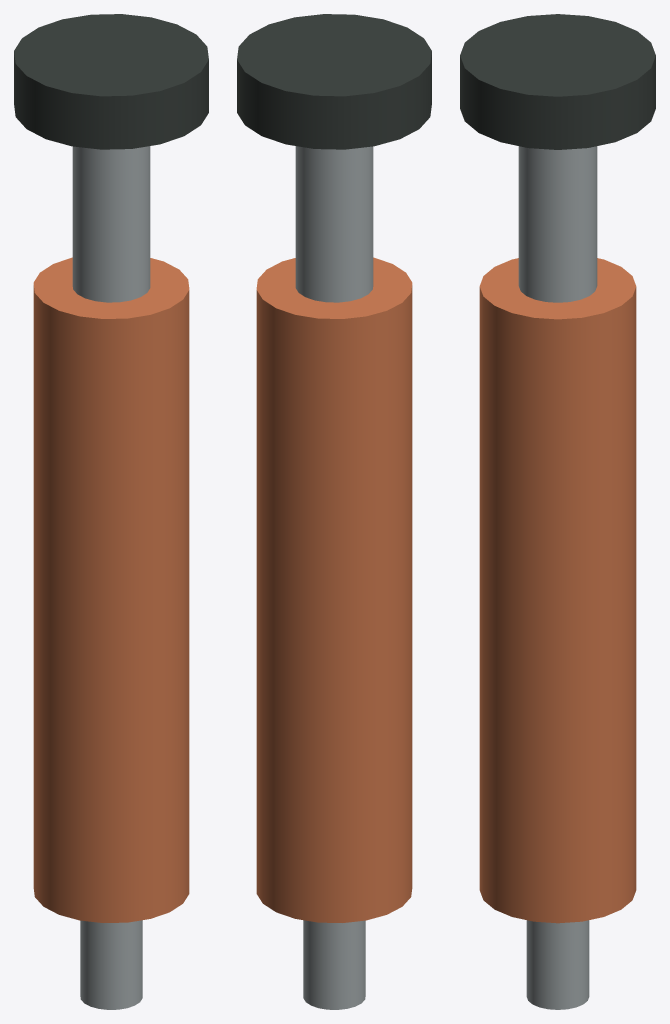
File: salvage-and-repair-workshop-desolder-pump-367b0d6b__25470.glb
3 views of the same model, side by side, from view 1: azimuth 30°, elevation 25°; view 2: azimuth 150°, elevation 25°; view 3: azimuth 270°, elevation 25° (orthographic).
Parts seen in each view (by area): view 1: desolder-pump; view 2: desolder-pump; view 3: desolder-pump.
Part boxes in pixels (x1,y1,x2,y2): desolder-pump: [14, 14, 208, 1009]; desolder-pump: [237, 14, 431, 1009]; desolder-pump: [460, 14, 655, 1009].
Bounding box in the file's own units: 0.05 × 0.265 × 0.05.
